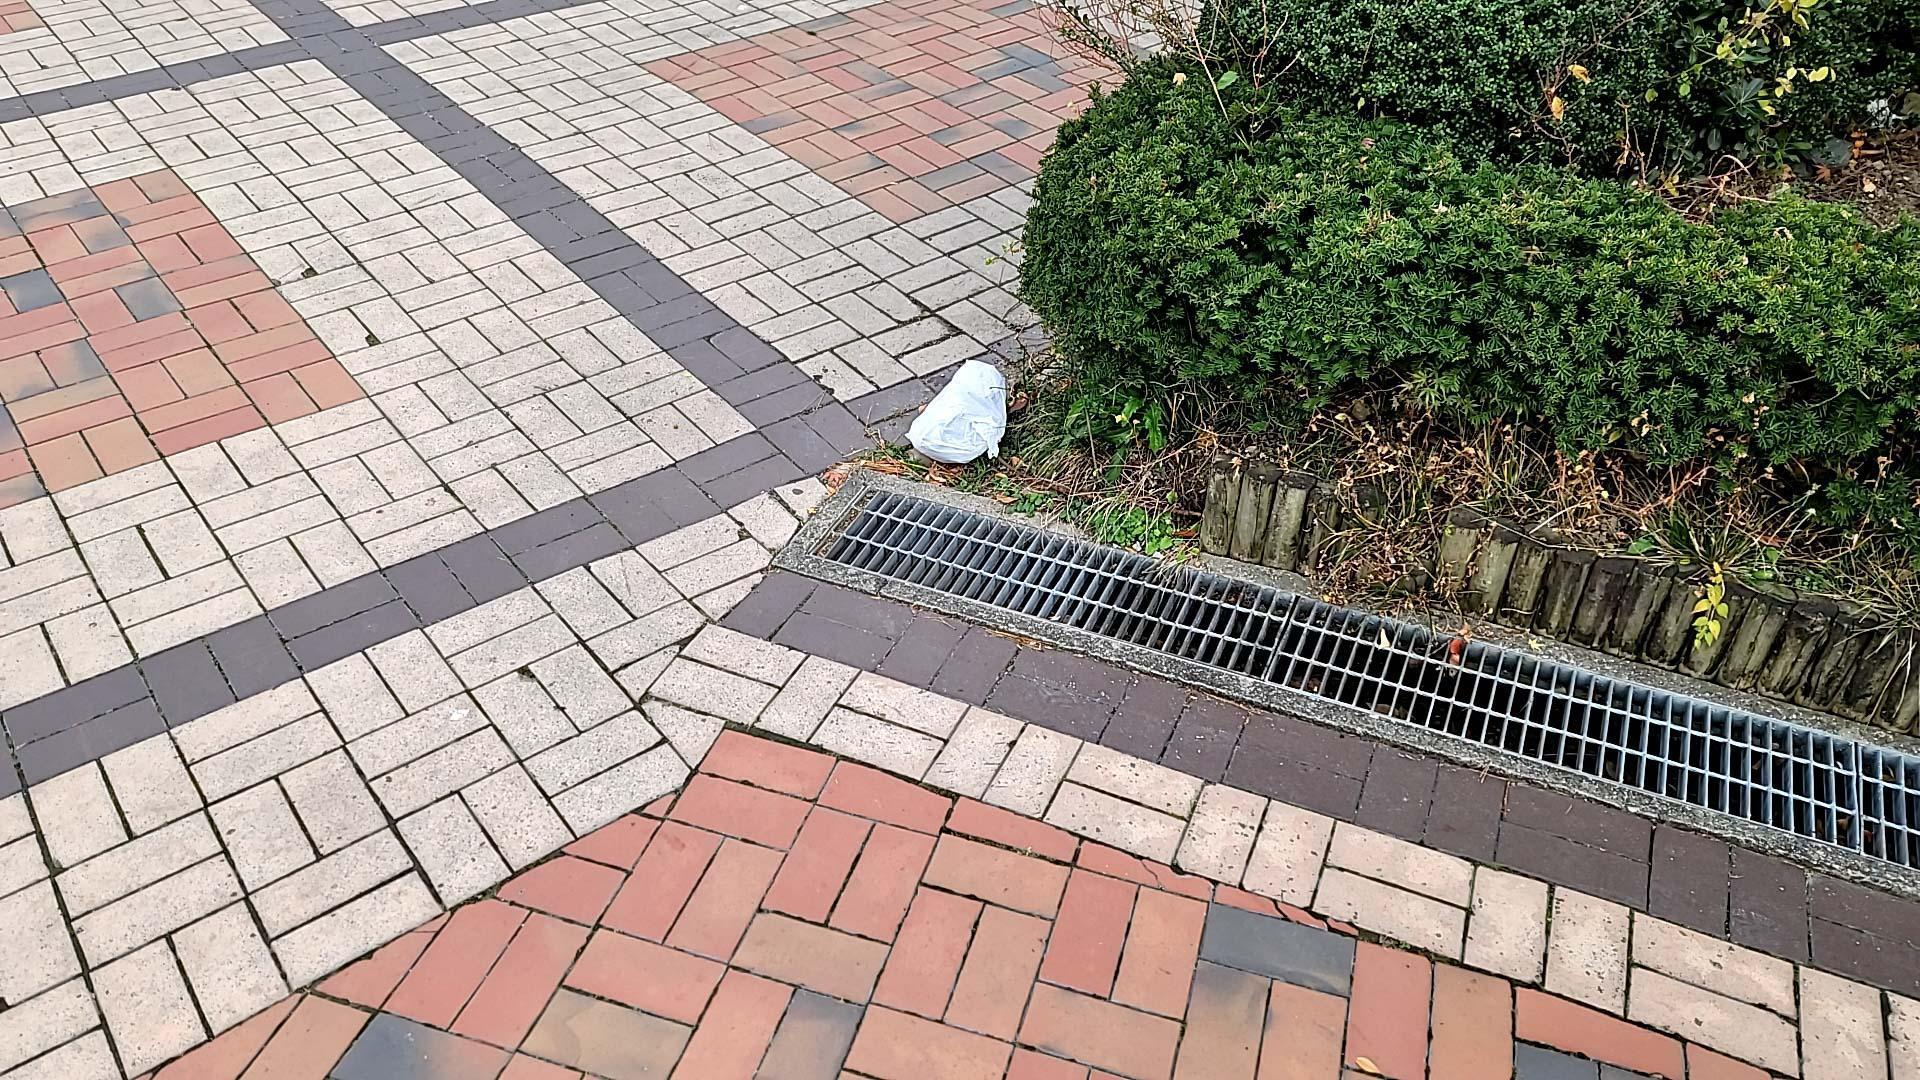white_bag: (893, 357, 1021, 477)
